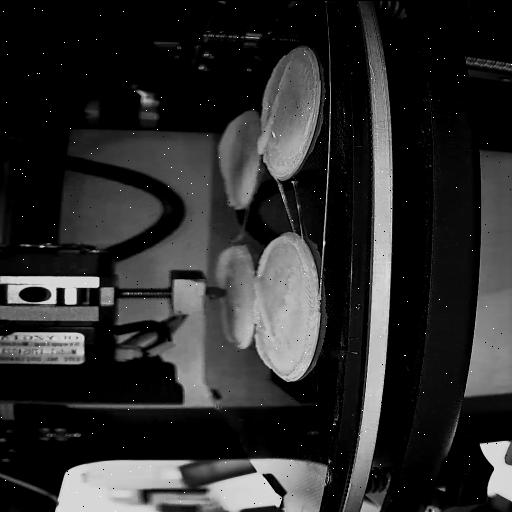over_extrusion: (254, 64, 291, 154), (210, 118, 240, 208), (254, 234, 309, 280), (254, 287, 274, 369), (212, 245, 250, 286)
